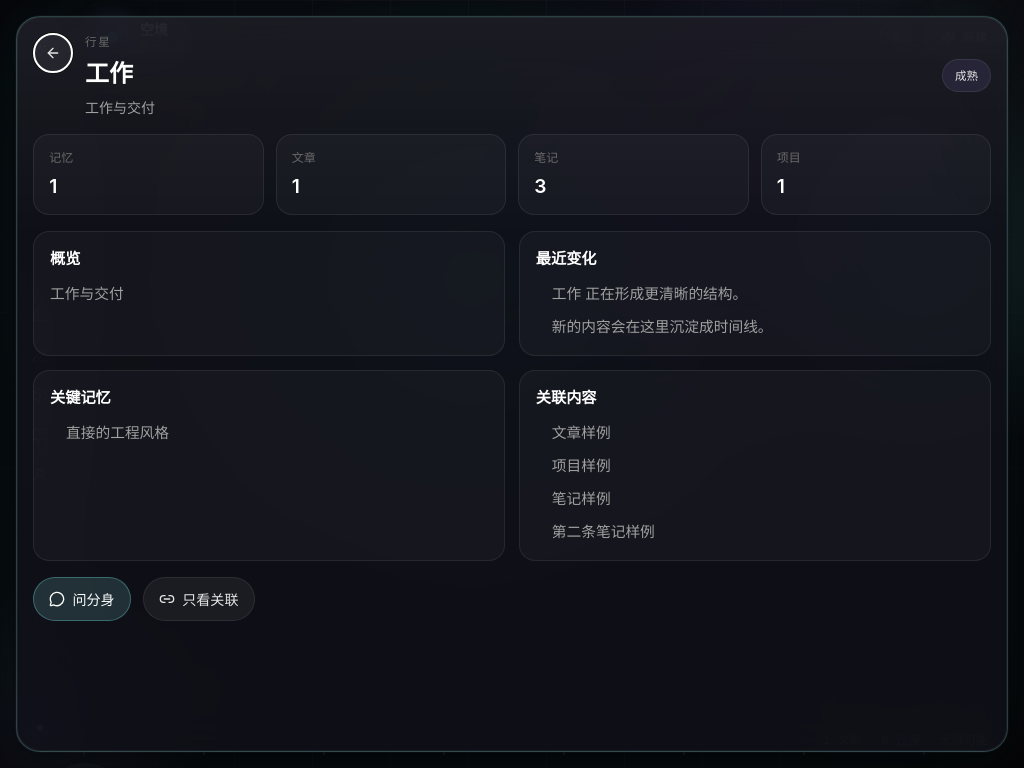
HomePageView › uses Escape to collapse the digital twin before leaving planet detail
Earlier steps of the test are not shown.
Later steps or results of the test are not shown.
Click the button "问分身": (82, 600) [33,578,131,622]
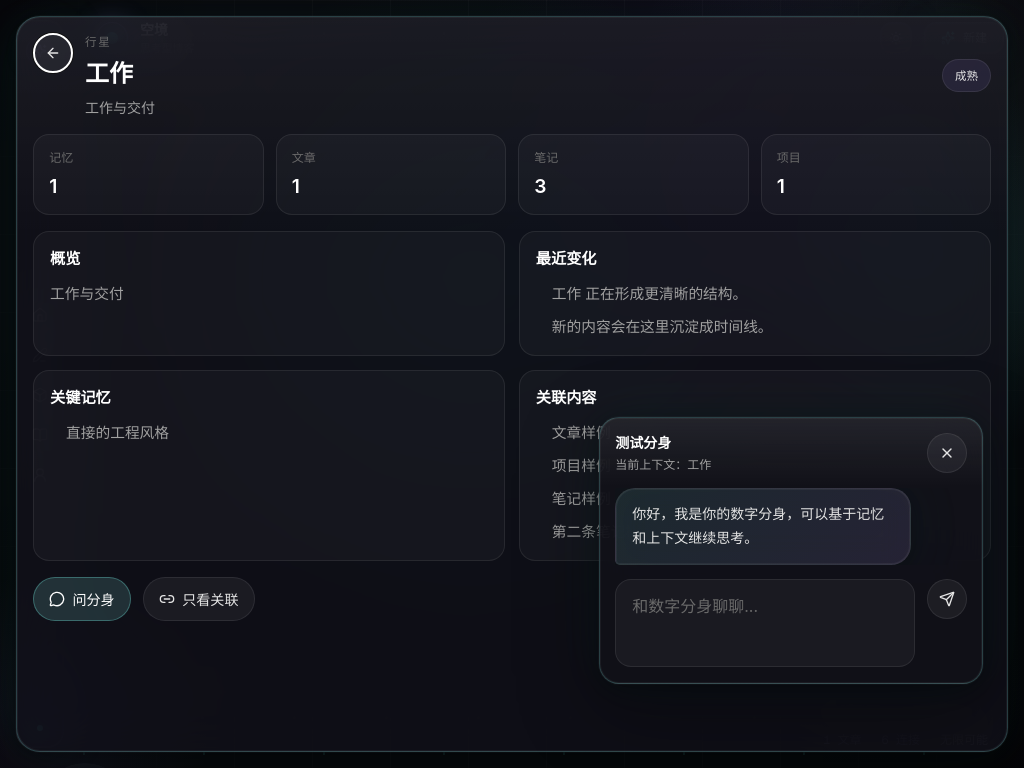
Check: the dialog named "数字分身对话" is shown, box [599,417,983,684]
Press Escape
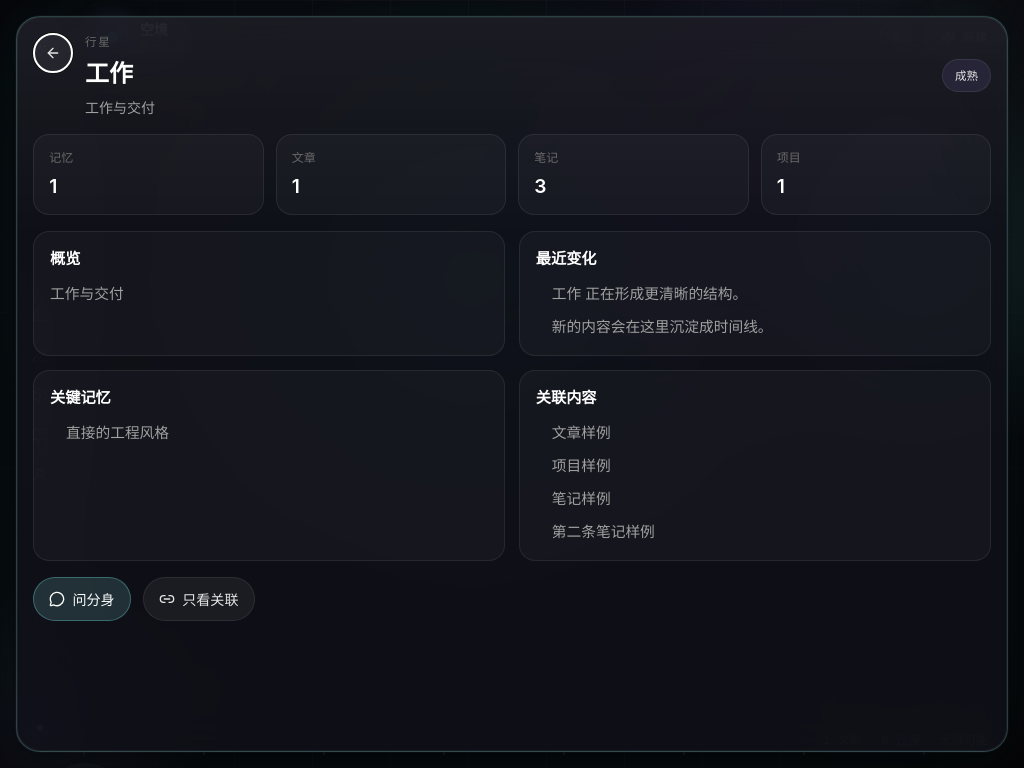
Check: the dialog "数字分身对话" is gone
